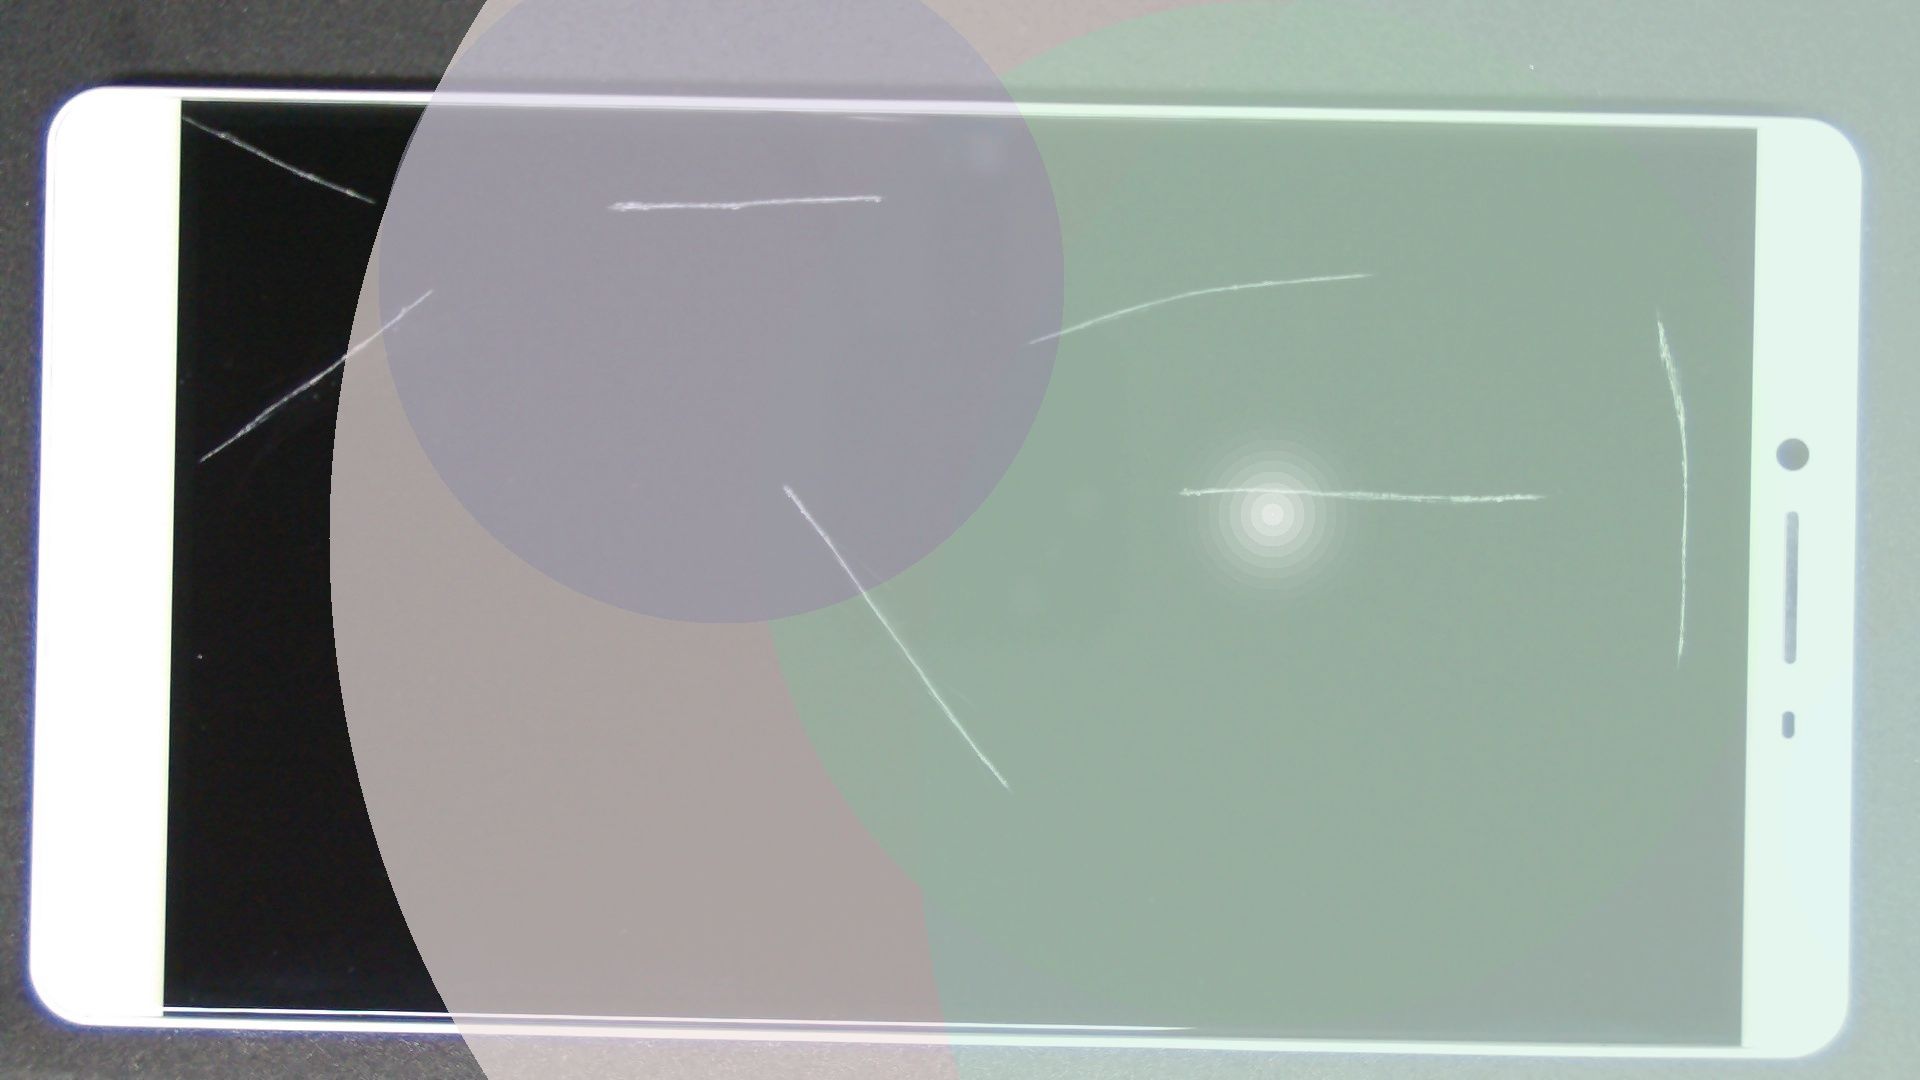oil: (617, 243, 1849, 729), (393, 241, 1175, 727), (828, 149, 1920, 473), (684, 136, 1920, 409), (425, 96, 1270, 291), (216, 142, 644, 433), (91, 55, 274, 174)
